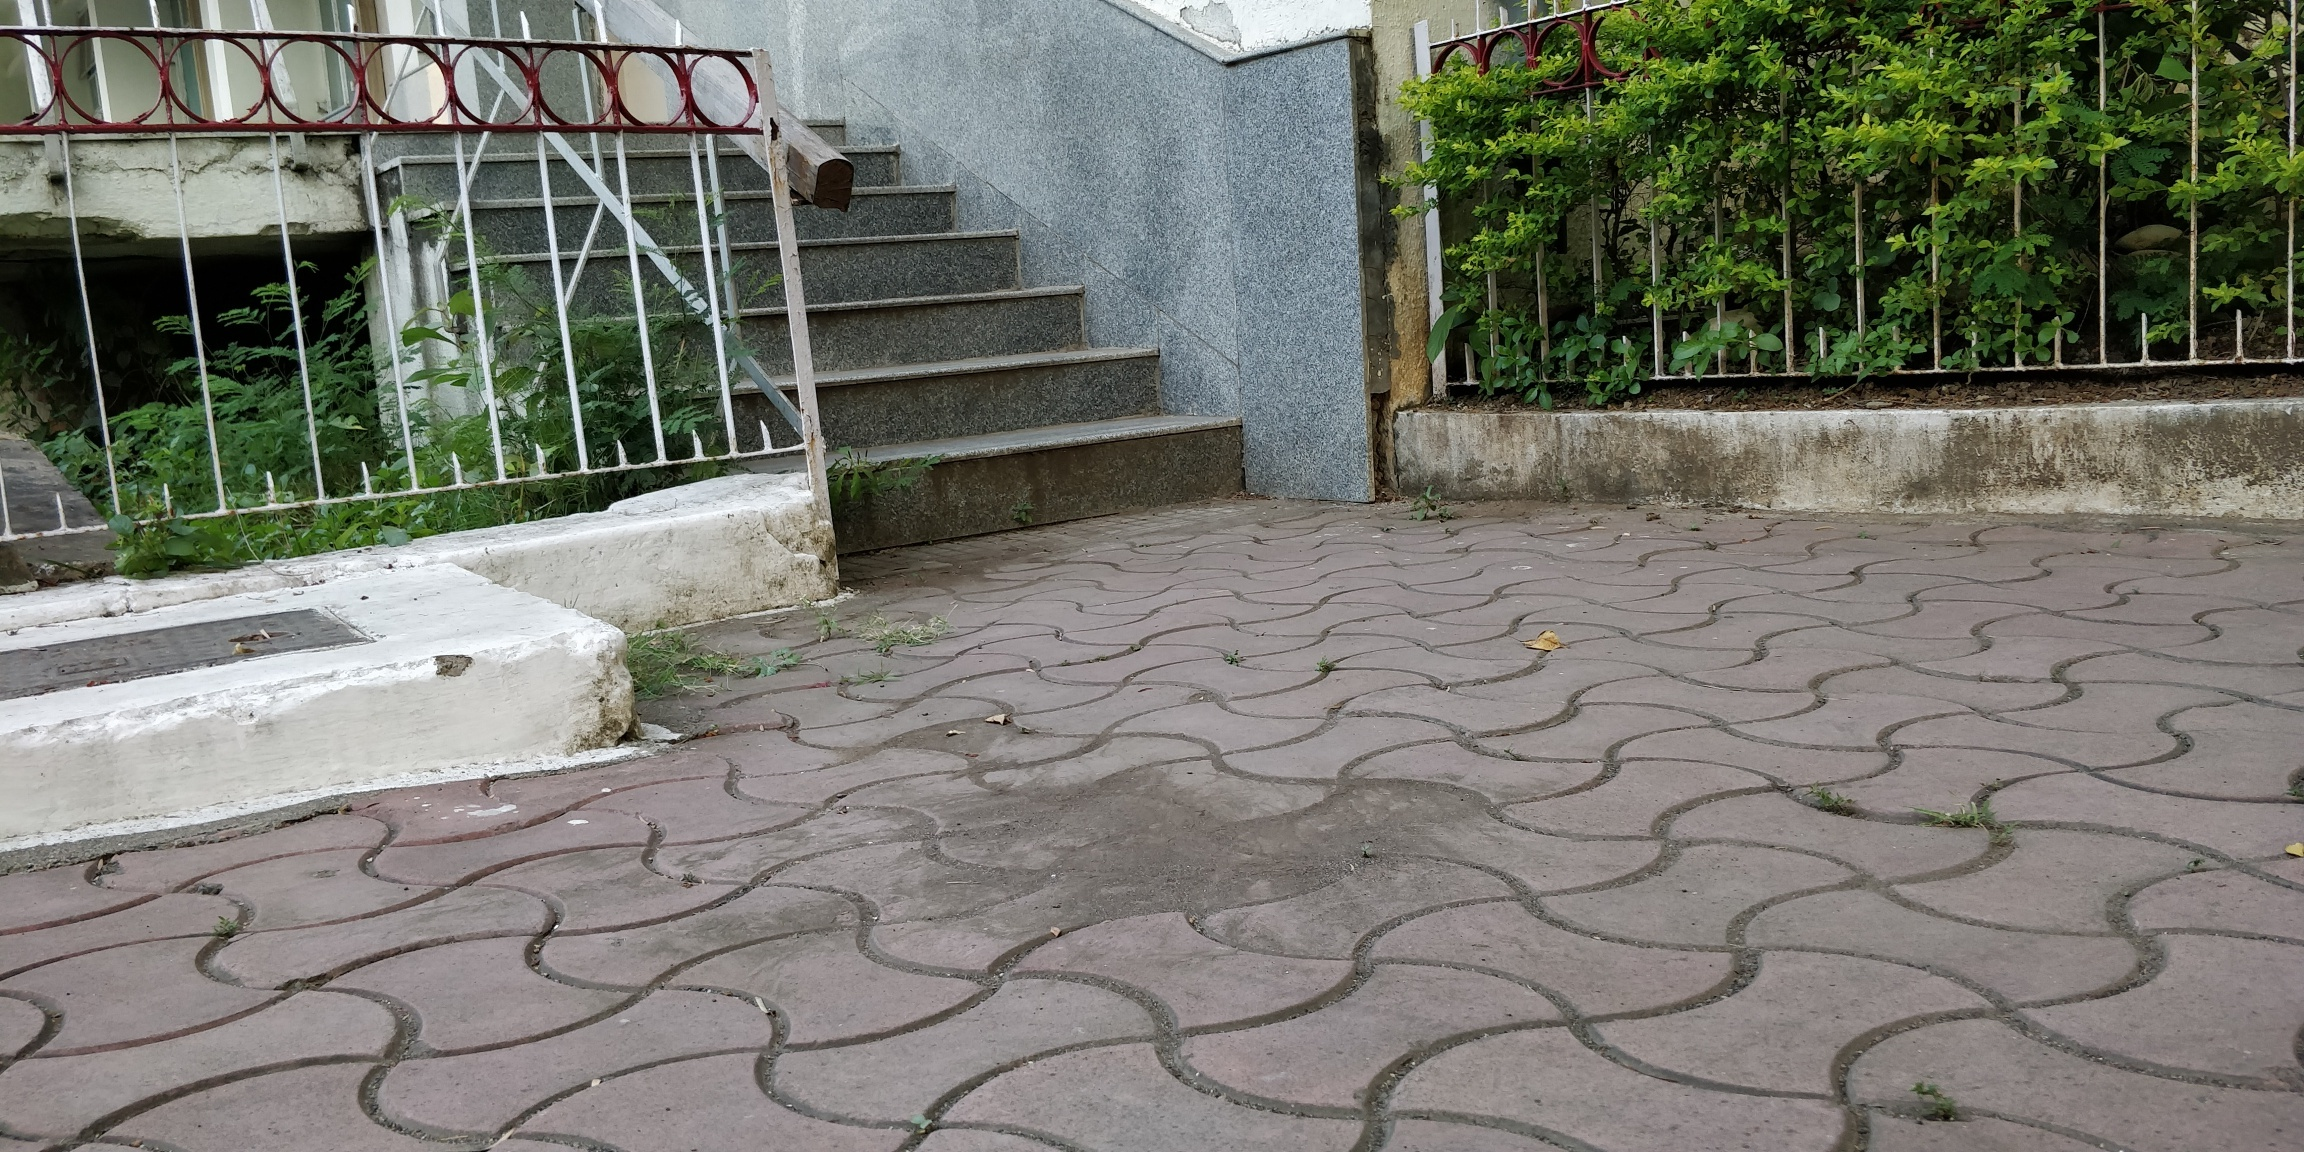stairs_up: (386, 118, 1271, 535)
